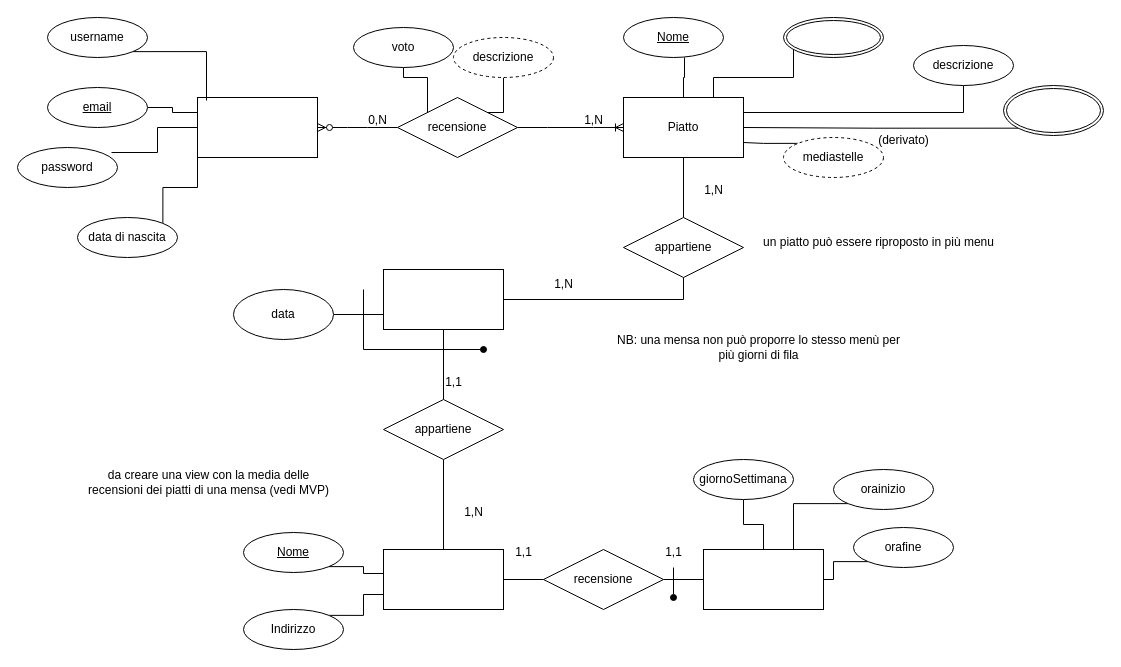
Some shapes in this 1121 by 667 pixel diagram are drawn without their labels. The shapes that lost their labels are listed below. From the top down, each one's centre as x and y in pixels, then its label:
point (833, 37): foto
point (257, 127): Utente
point (1053, 110): allergeni
point (443, 299): Menu
point (443, 579): Mensa
point (763, 579): orarioApertura
